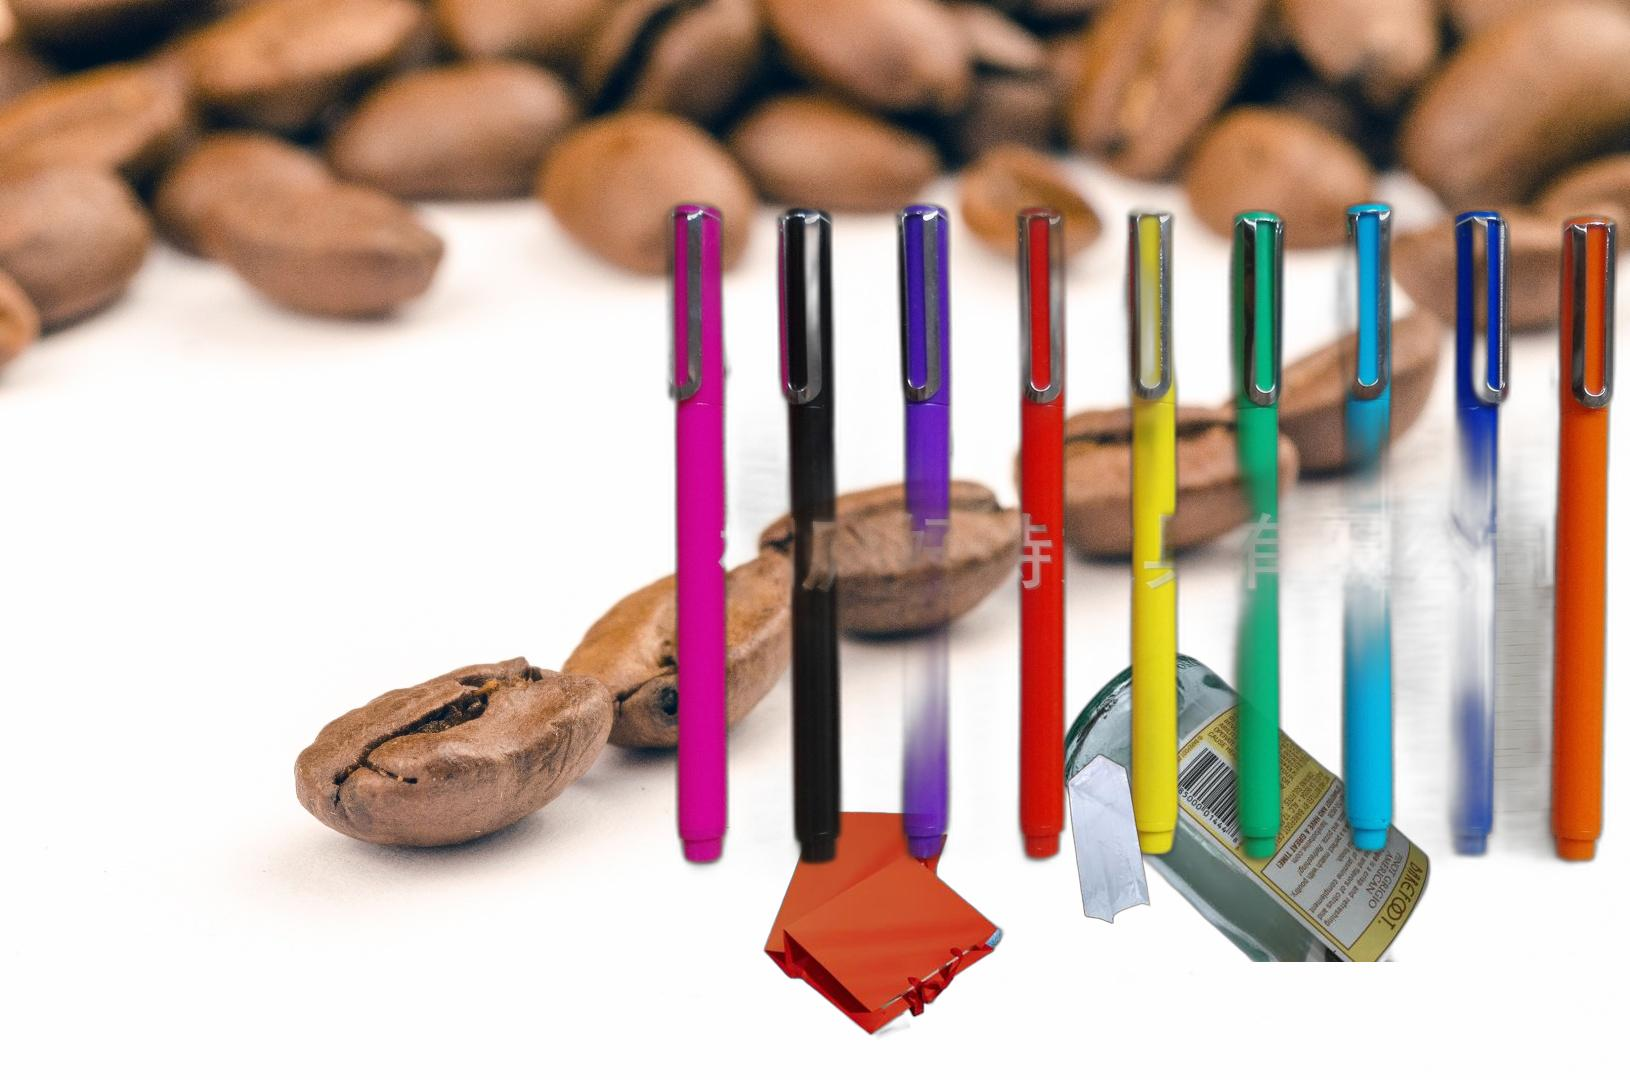glass: (1055, 650, 1435, 962)
paper-bag: (761, 809, 1007, 1041)
penholder: (657, 195, 1626, 986)
plastic-bag: (1065, 751, 1152, 925)
